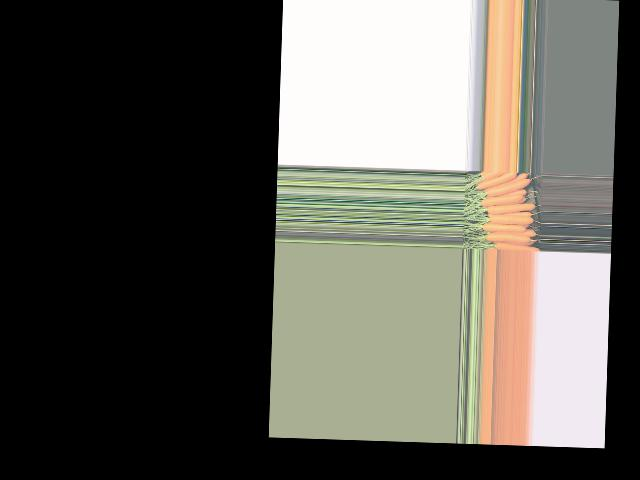carrot: (477, 176, 520, 186)
